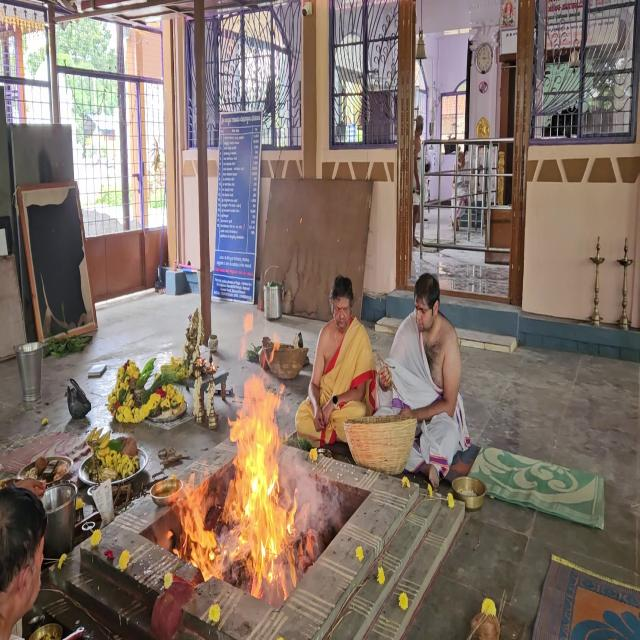fire: (170, 314, 313, 600)
